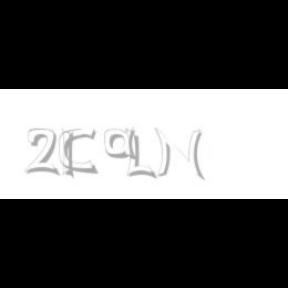2: (24, 128, 58, 176)
C: (60, 128, 96, 174)
L: (126, 128, 154, 180)
N: (154, 128, 202, 180)
a: (104, 128, 142, 160)
l: (62, 128, 78, 180)
